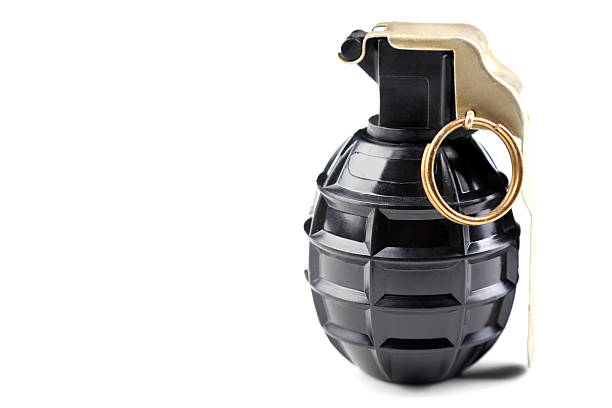e1: (297, 18, 542, 389)
